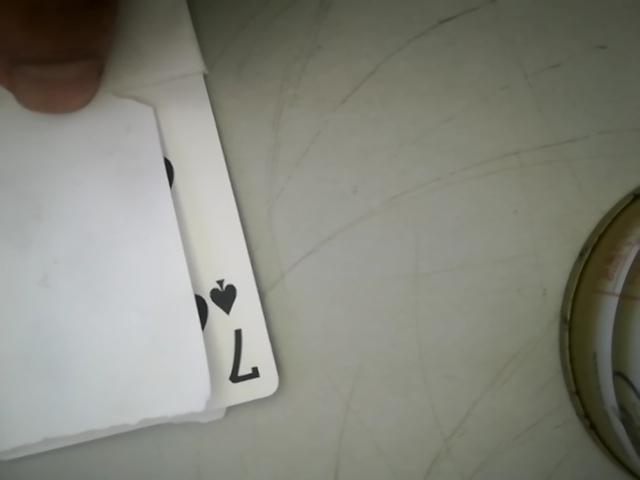ht 7: (190, 264, 270, 395)
